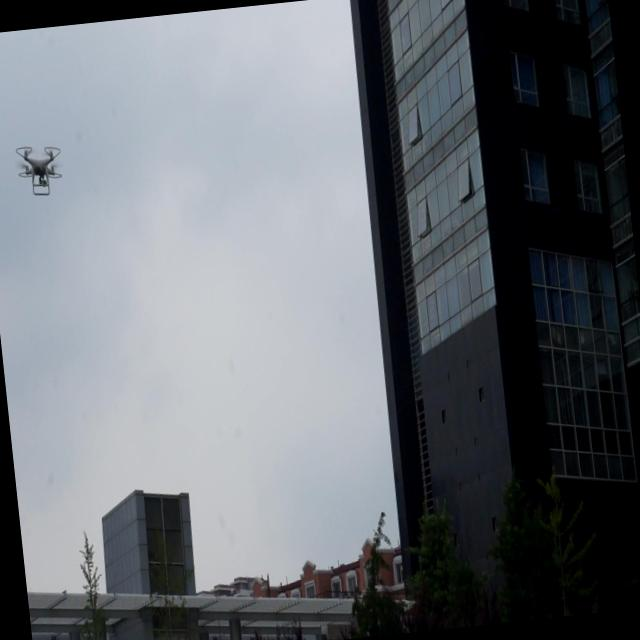drone: (12, 136, 70, 203)
